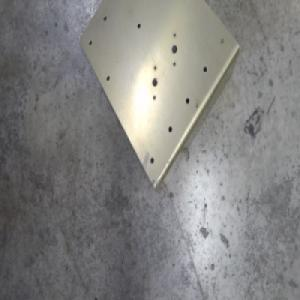MetalSheet: (77, 0, 239, 194)
